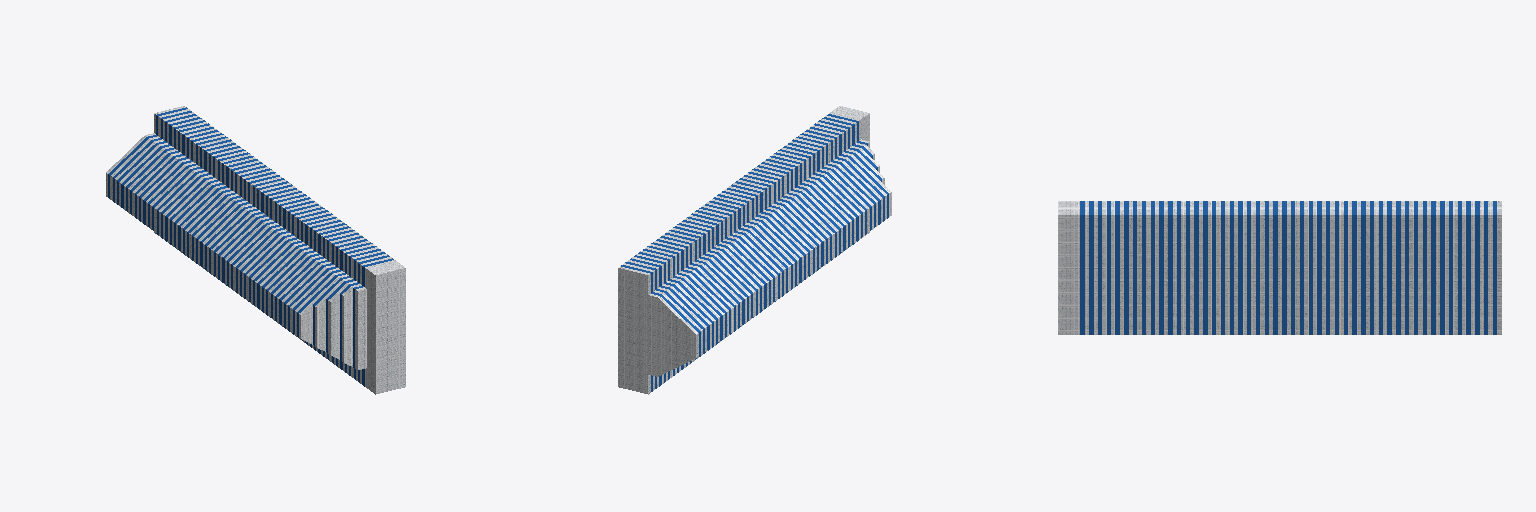
3 views of the same model, side by side, from view 1: azimuth 30°, elevation 25°; view 2: azimuth 150°, elevation 25°; view 3: azimuth 270°, elevation 25° (orthographic).
Visible parts, largest first — view 1: Wall_01, Glass_01, Wall_03, Wall_02; view 2: Wall_01, Glass_01, Wall_03; view 3: Wall_01, Glass_01, Wall_02.
Boxes of the visible parts, x1=… form: Wall_01: x1=106, y1=106, x2=396, y2=387; Glass_01: x1=108, y1=107, x2=393, y2=386; Wall_03: x1=301, y1=268, x2=405, y2=393; Wall_02: x1=367, y1=262, x2=404, y2=394; Wall_01: x1=619, y1=112, x2=891, y2=394; Glass_01: x1=621, y1=114, x2=888, y2=391; Wall_03: x1=618, y1=268, x2=695, y2=393; Wall_01: x1=1076, y1=201, x2=1501, y2=334; Glass_01: x1=1080, y1=201, x2=1496, y2=334; Wall_02: x1=1058, y1=201, x2=1075, y2=334.
Size of the model in its own units: 1236 by 1800 by 6060.
3 materials, 1 textured.